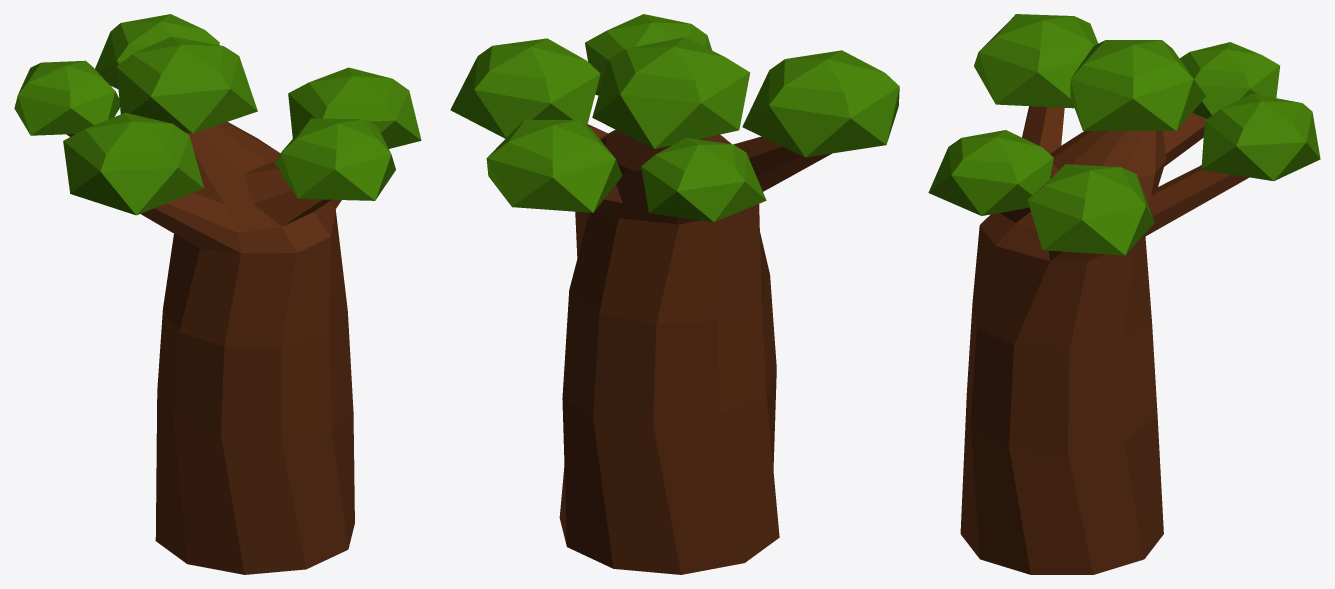
Rendered from BaobabTree1.fbx.
3 views of the same model, side by side, from view 1: azimuth 30°, elevation 25°; view 2: azimuth 150°, elevation 25°; view 3: azimuth 270°, elevation 25° (orthographic). The views are drawn at different scales.
Parts seen in each view (by area): view 1: Cylinder; view 2: Cylinder; view 3: Cylinder.
Boxes of the visible parts, left/top/right/bottom form: Cylinder: left=14, top=14, right=421, bottom=574; Cylinder: left=450, top=14, right=899, bottom=574; Cylinder: left=928, top=14, right=1320, bottom=574.
Size of the model in its own units: 8.63 by 10.84 by 8.2.
